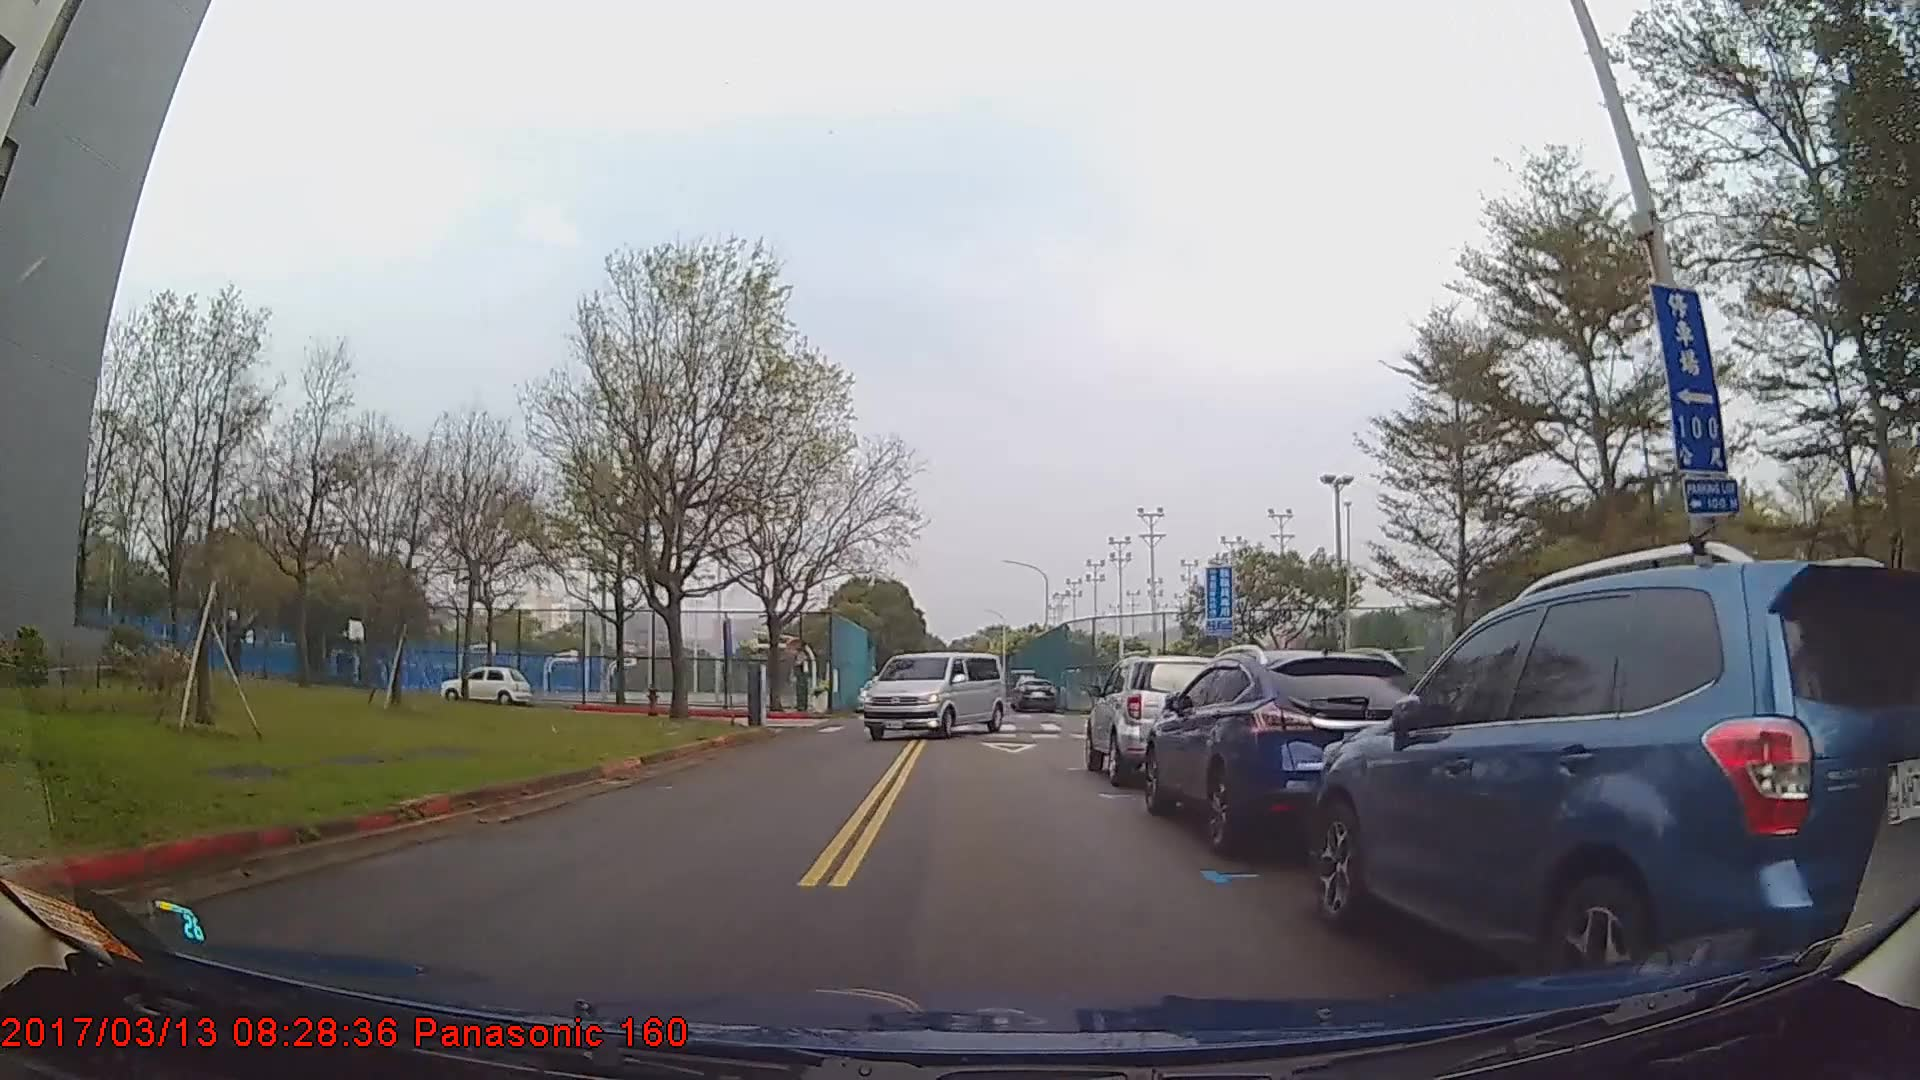vehicle: (1311, 558, 1916, 1010), (1139, 647, 1429, 852), (1087, 655, 1230, 786), (861, 649, 1007, 745), (442, 666, 531, 704), (1013, 676, 1059, 715)
